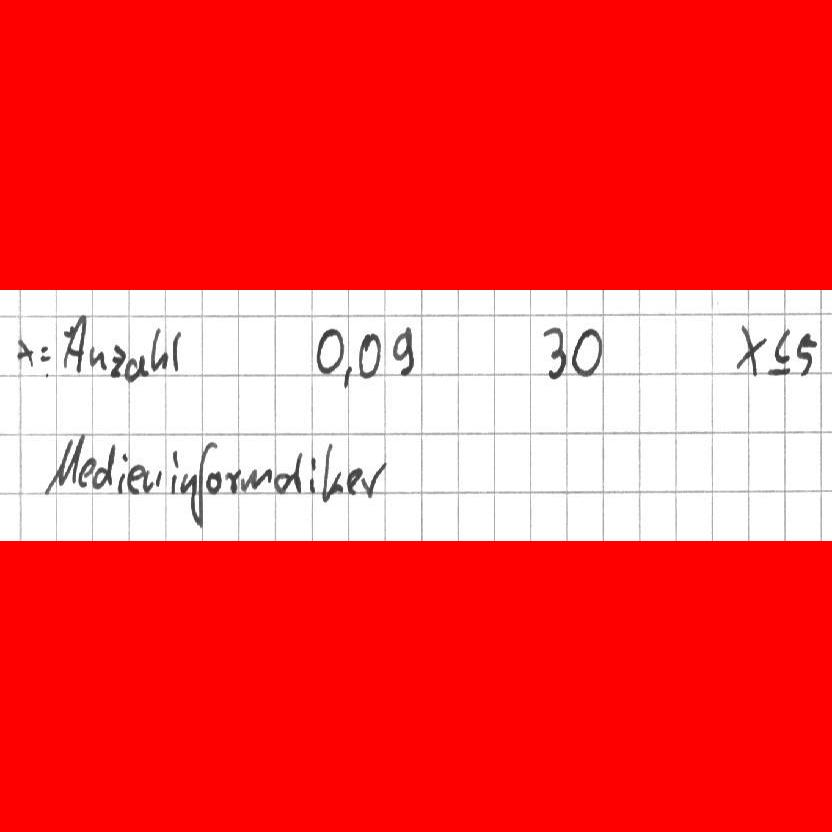Char: (44, 431, 85, 496), (570, 320, 607, 377), (735, 321, 767, 379), (191, 440, 211, 529), (388, 320, 417, 377), (312, 325, 345, 375), (60, 312, 86, 374), (540, 325, 569, 378), (272, 449, 304, 497), (319, 443, 344, 504), (358, 331, 385, 380), (794, 328, 818, 379), (359, 461, 388, 501), (92, 441, 116, 489), (238, 465, 273, 496), (149, 326, 170, 373), (122, 353, 149, 385), (772, 327, 793, 366), (171, 326, 186, 377), (109, 342, 126, 381), (114, 452, 129, 495), (126, 463, 145, 495), (15, 337, 35, 367), (345, 466, 364, 497), (78, 455, 95, 489), (141, 468, 162, 494), (88, 344, 107, 371), (204, 468, 222, 496), (224, 466, 241, 495), (169, 447, 178, 497), (180, 470, 197, 496), (307, 455, 317, 496), (342, 361, 355, 389), (766, 365, 793, 377), (39, 343, 53, 362)
